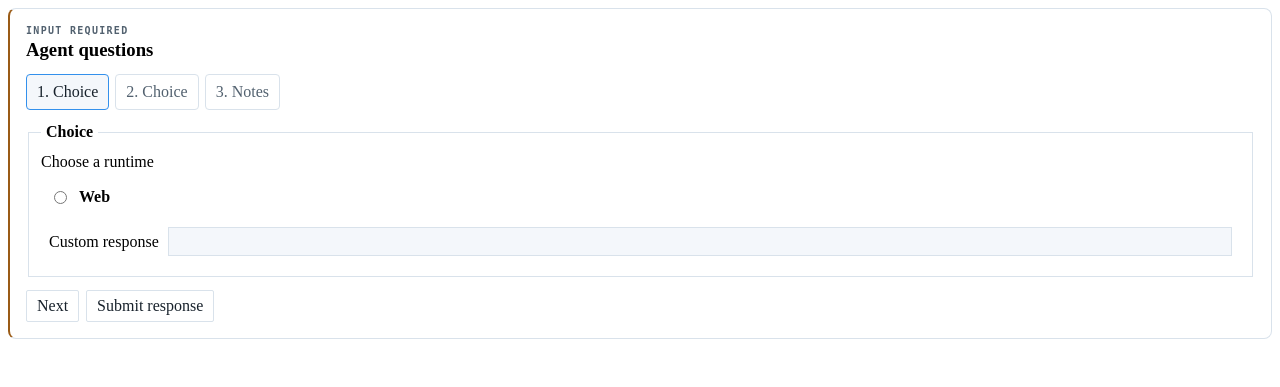
Test: InteractionPanel › returns to the missing required question without sending an incomplete response
What coordinates should you click on to do the following:
click the tab "3. Notes"
I would click on:
 (242, 92)
Its box is [205, 74, 280, 110].
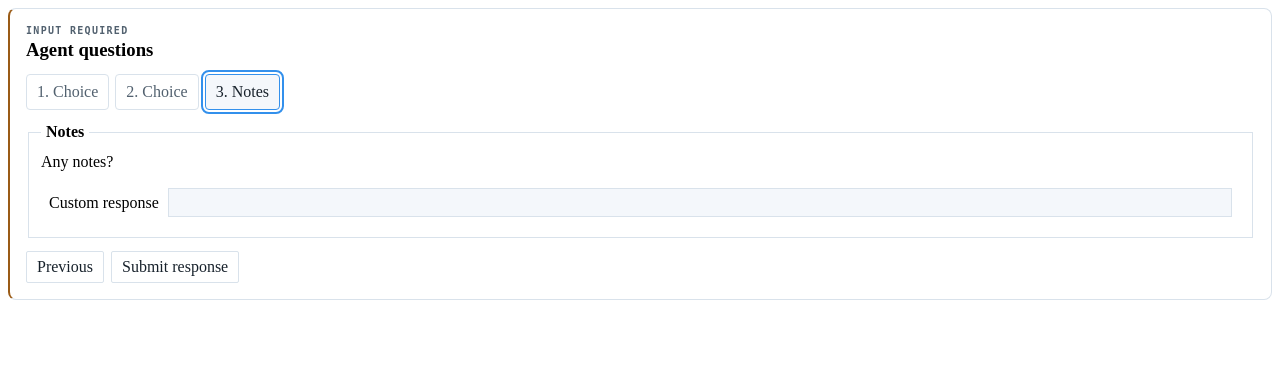
What coordinates should you click on to do the following:
click the button "Submit response"
I would click on:
 (175, 267)
Its box is [111, 251, 239, 283].
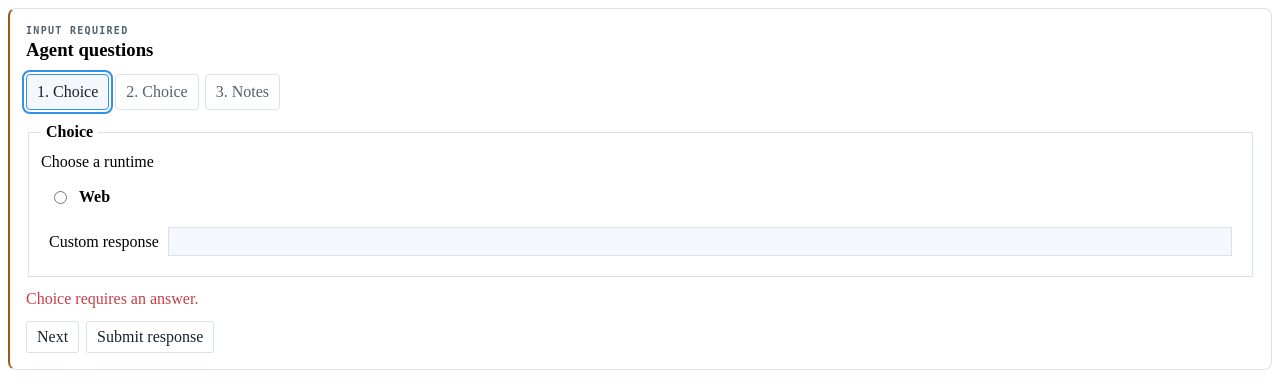
Expected: the message "Choice requires an answer." is shown, [26, 290, 198, 307]
Expected: the panel shows "Choose a runtime", [41, 153, 154, 170]
